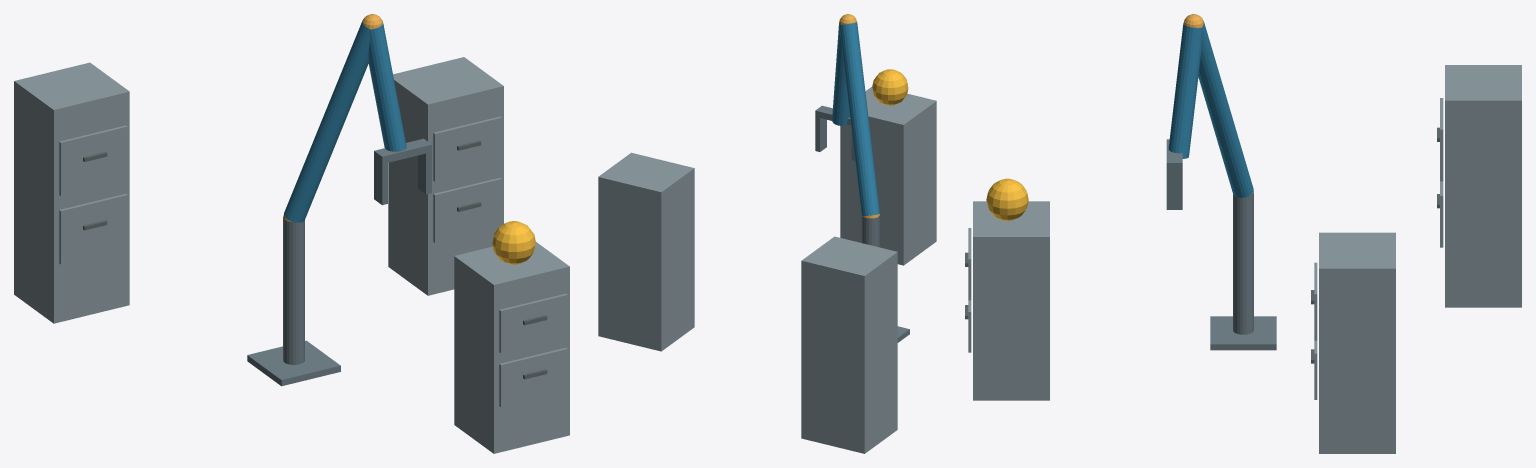
3 views of the same model, side by side, from view 1: azimuth 30°, elevation 25°; view 2: azimuth 150°, elevation 25°; view 3: azimuth 270°, elevation 25° (orthographic). The views are drawn at different scales.
Parts seen in each view (by area): view 1: cabinet_3 body, cabinet_1 body, cabinet_2 body, moving link 1, cabinet_3 drawer front, cabinet_3 drawer front.001, cabinet_2 drawer front.001, cabinet_2 drawer front, fixed post, cabinet_1 drawer front.001, cabinet_1 drawer front, moving link 2 (+5 smaller); view 2: cabinet_3 body, cabinet_2 body, cabinet_1 body, moving link 1, ball ball_1, moving link 2, fixed post, gripper finger 1; view 3: cabinet_3 body, cabinet_2 body, cabinet_1 body, moving link 1, fixed post, moving link 2, pedestal, ball ball_1, gripper finger 1.
Boxes of the visible parts, <box> form: cabinet_3 body: <box>14,62,129,323</box>; cabinet_1 body: <box>454,242,569,453</box>; cabinet_2 body: <box>388,57,503,295</box>; moving link 1: <box>284,21,370,222</box>; cabinet_3 drawer front: <box>59,194,127,264</box>; cabinet_3 drawer front.001: <box>59,125,127,195</box>; cabinet_2 drawer front.001: <box>433,116,501,181</box>; cabinet_2 drawer front: <box>433,178,501,242</box>; fixed post: <box>283,217,304,364</box>; cabinet_1 drawer front.001: <box>499,293,567,353</box>; cabinet_1 drawer front: <box>499,347,567,407</box>; moving link 2: <box>368,23,406,151</box>; cabinet_3 body: <box>801,236,897,453</box>; cabinet_2 body: <box>598,152,694,351</box>; cabinet_1 body: <box>840,86,936,265</box>; moving link 1: <box>839,22,879,215</box>; ball ball_1: <box>872,69,908,105</box>; moving link 2: <box>832,22,849,125</box>; fixed post: <box>861,214,879,247</box>; gripper finger 1: <box>815,117,826,151</box>; cabinet_3 body: <box>1445,65,1521,307</box>; cabinet_2 body: <box>1319,232,1395,453</box>; cabinet_1 body: <box>973,201,1049,400</box>; moving link 1: <box>1198,21,1253,197</box>; fixed post: <box>1233,193,1253,334</box>; moving link 2: <box>1168,23,1202,158</box>; pedestal: <box>1210,316,1276,350</box>; ball ball_1: <box>986,178,1028,220</box>; gripper finger 1: <box>1166,170,1182,209</box>.
Bounding box in the file's own units: 1.62 × 1.44 × 2.1.
